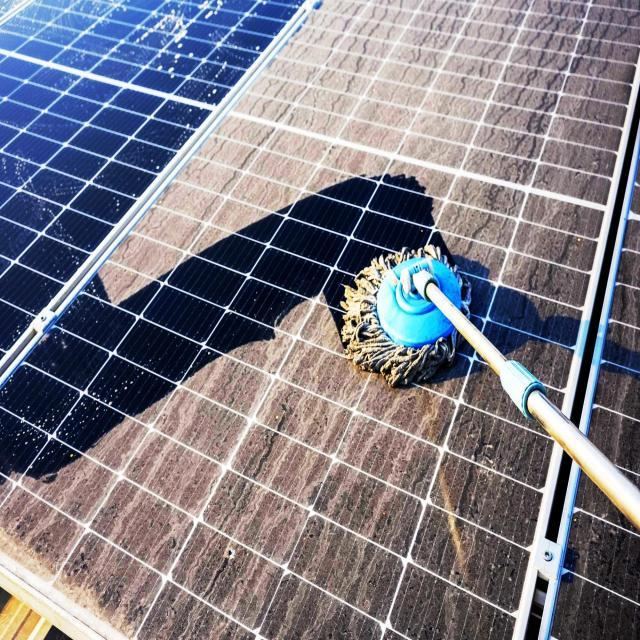faulty: (2, 2, 530, 614), (425, 212, 640, 638)
